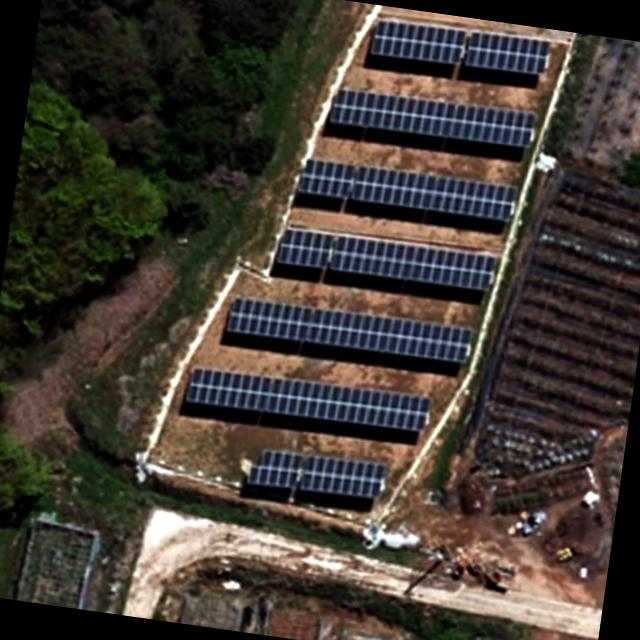solar: (180, 362, 434, 440), (222, 291, 475, 368), (324, 82, 536, 154), (346, 160, 516, 226), (326, 235, 498, 298), (462, 28, 556, 86), (366, 18, 469, 70), (296, 450, 388, 506), (240, 446, 304, 494), (293, 154, 353, 203), (273, 226, 334, 274)
